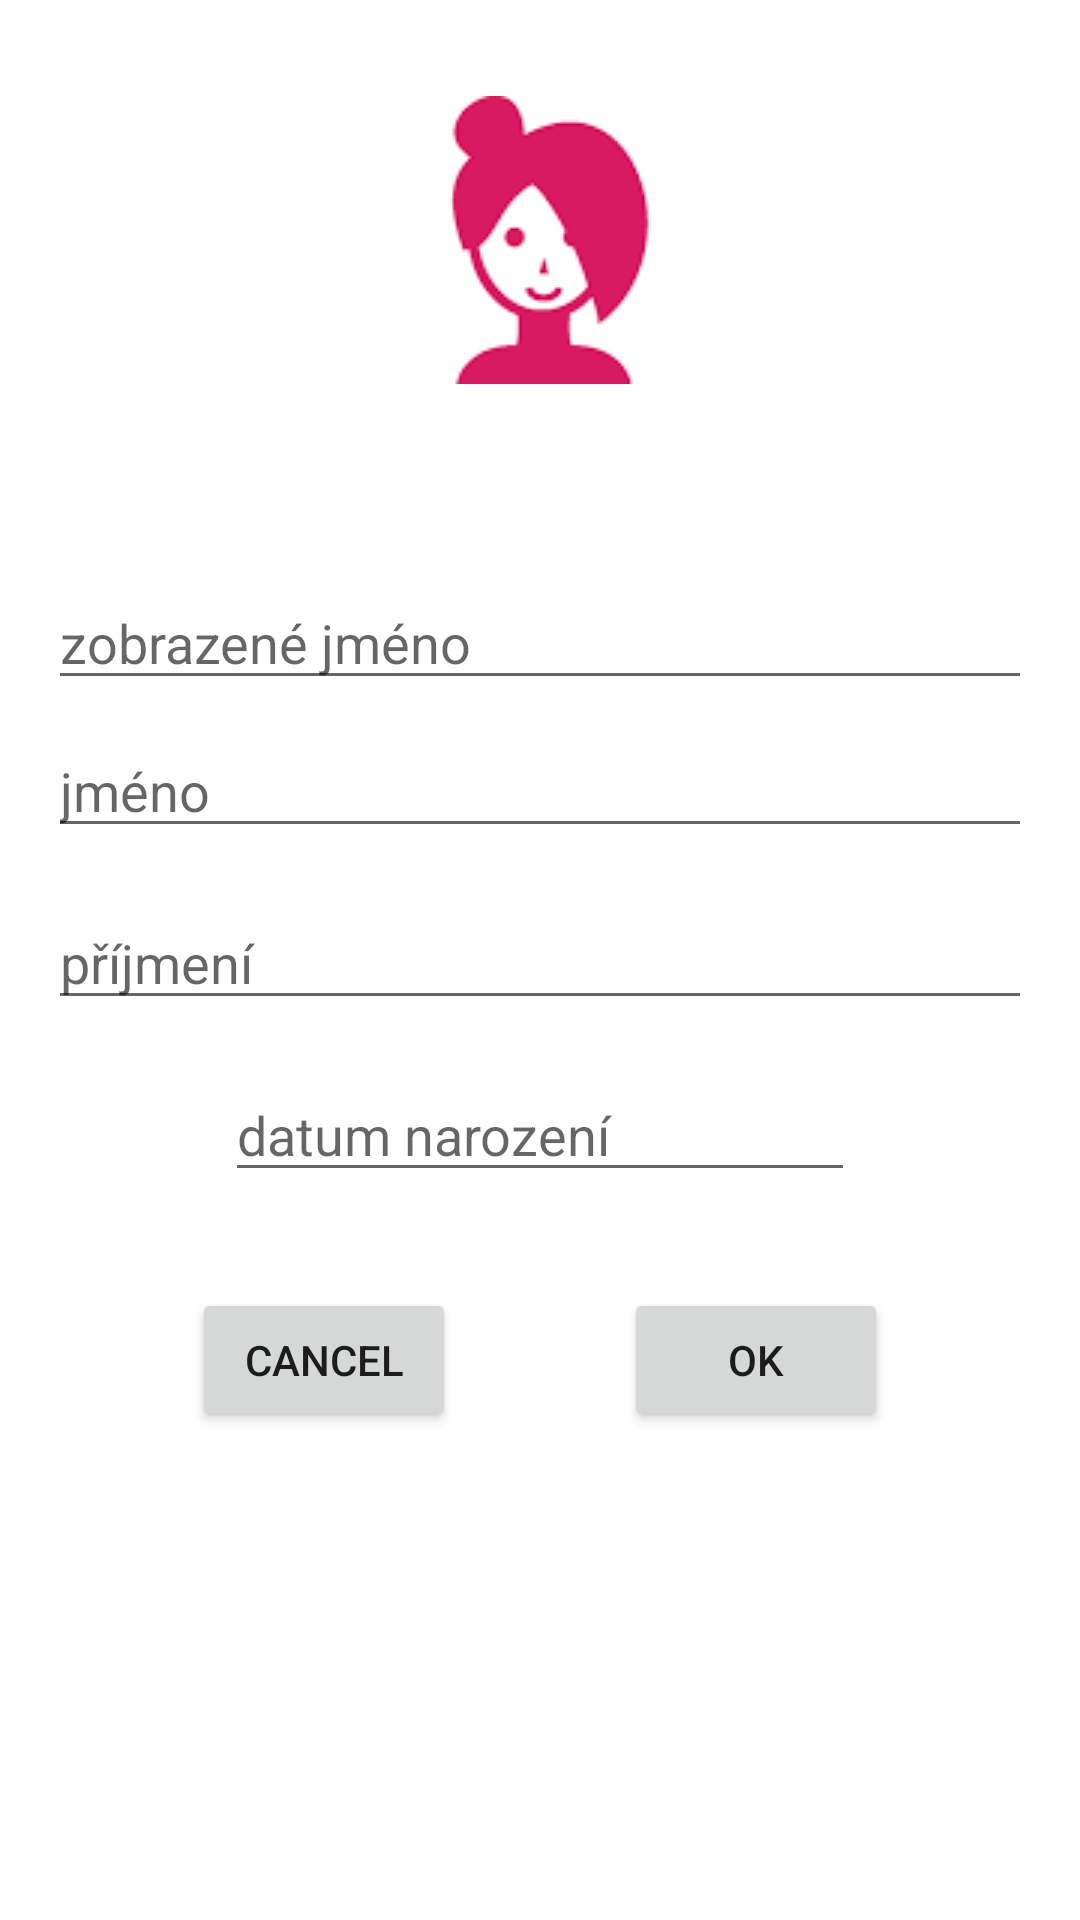

Screen size 1080w x 1920h. Icon name, then its center in pixels as (x,y):
profile: (550,240)
